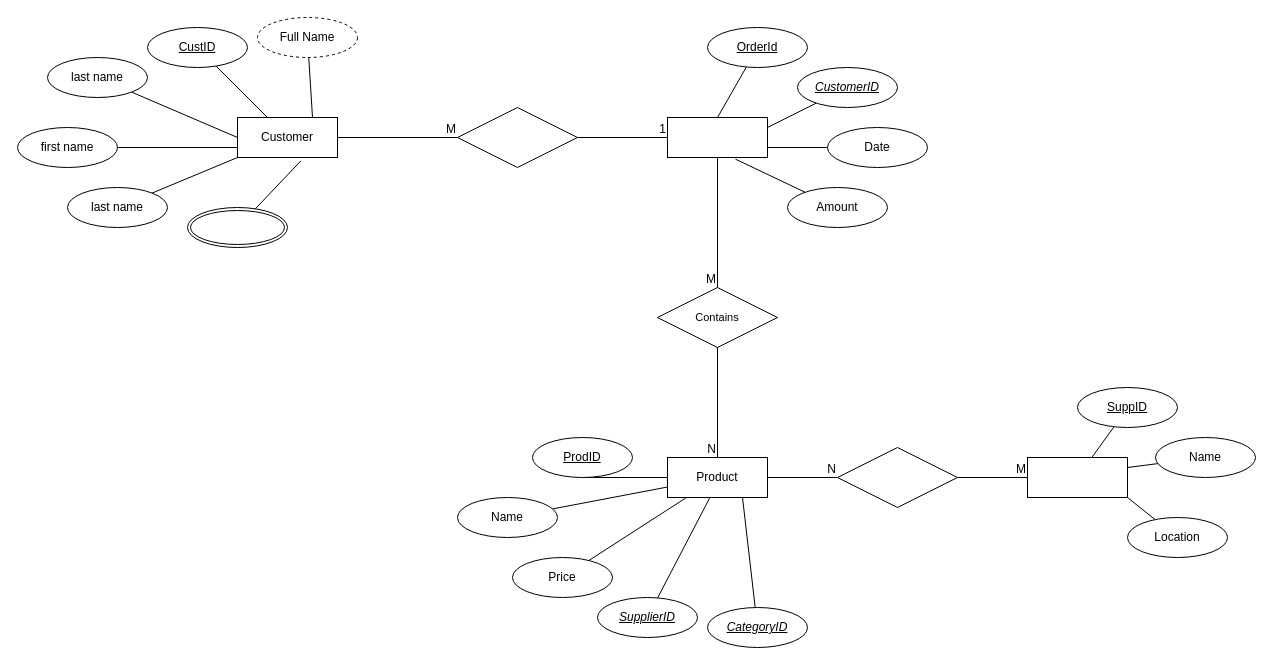
Image size: 1273x665. Some labels were removed from this diagram. Here are the shapes that lost their labels. From the top down, the centre of each, then its label:
the point at 517,137: Makes
the point at 717,137: Order
the point at 237,227: Interests
the point at 897,477: Supplies
the point at 1077,477: Supplier
